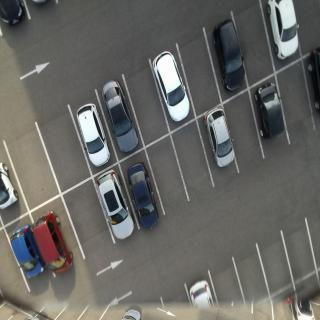car: (96, 166, 138, 247), (102, 76, 143, 157), (152, 46, 192, 125), (32, 210, 77, 280), (72, 97, 114, 171), (210, 16, 248, 96), (4, 217, 47, 284), (266, 1, 302, 70), (129, 160, 162, 233), (205, 106, 239, 171), (254, 82, 288, 143)
parking-space: (34, 100, 98, 199), (4, 120, 67, 217), (118, 54, 175, 150), (61, 173, 120, 264), (231, 1, 278, 96), (143, 132, 194, 219), (220, 87, 268, 179), (169, 117, 218, 203), (274, 55, 318, 147), (232, 239, 277, 313), (255, 227, 297, 304), (282, 214, 320, 290)
